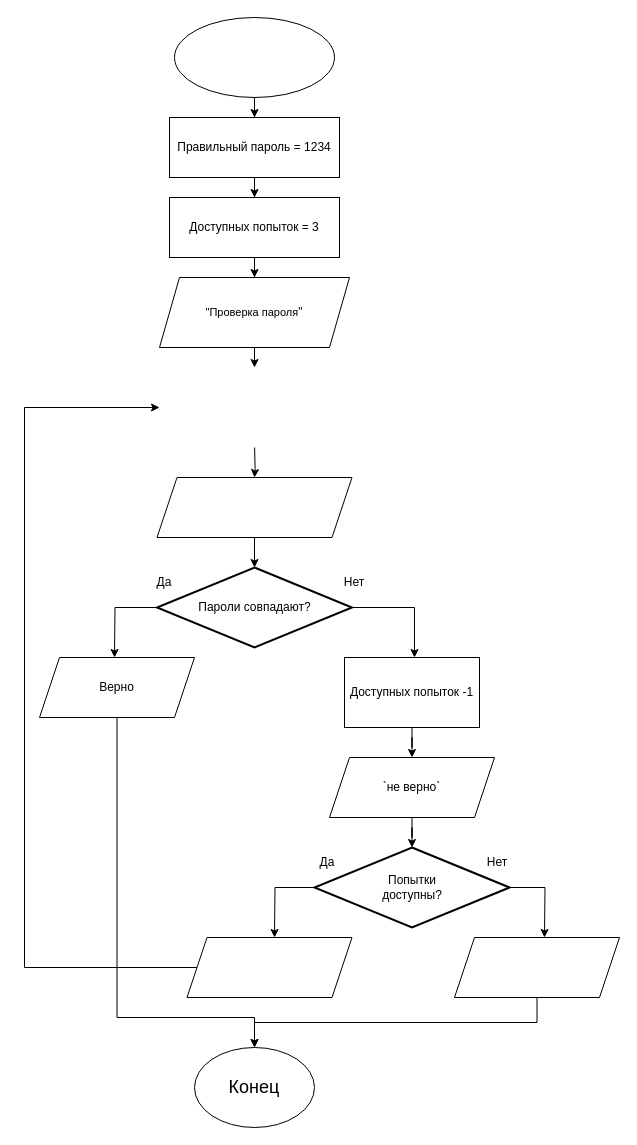
The diagram is 637 pixels wide and 1145 high, and some of its shapes have lost their labels. The box of each missing label's shape, as (x1, y1, x2, y2) in pixels:
`Введите пароль`: (156, 476, 352, 538)
`Доступ запрещен`: (454, 936, 620, 998)
`Осталось попыток`: (186, 936, 352, 998)
Начало: (174, 16, 334, 98)
